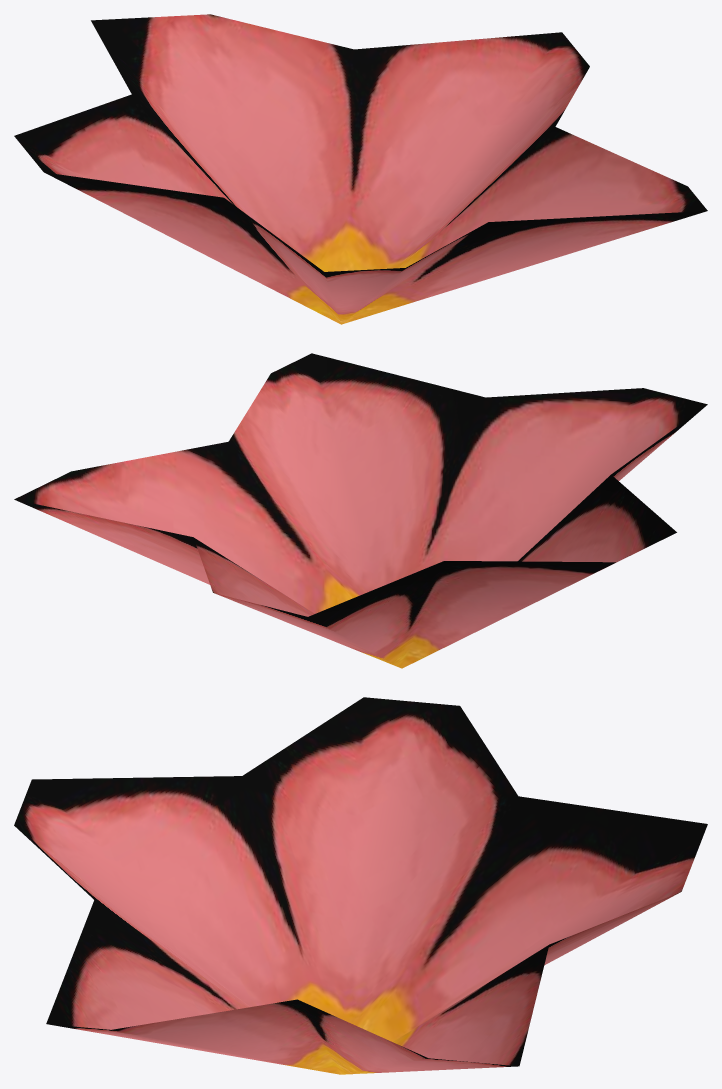
Rendered from petal_5.gltf.
3 views of the same model, one above another, from view 1: azimuth 30°, elevation 25°; view 2: azimuth 150°, elevation 25°; view 3: azimuth 270°, elevation 25° (orthographic). The views are drawn at different scales.
Visible parts, largest first — view 1: Petal_5; view 2: Petal_5; view 3: Petal_5.
Part boxes in pixels (box(x1,y1,x2,y2)): Petal_5: box(14, 14, 707, 324); Petal_5: box(14, 353, 707, 668); Petal_5: box(14, 697, 707, 1074).
Size of the model in its own units: 0.834 by 0.2888 by 0.7952.
1 material, 1 textured.
